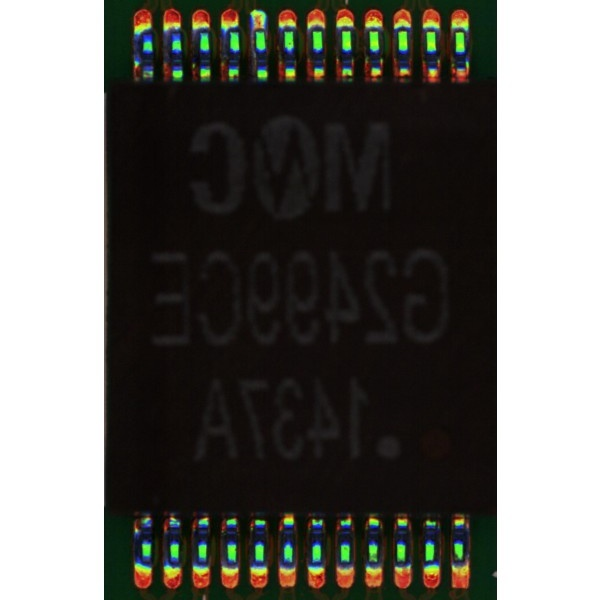Bad_podu: (257, 22, 265, 39)
Bad_qiaojiao: (251, 29, 256, 79)
